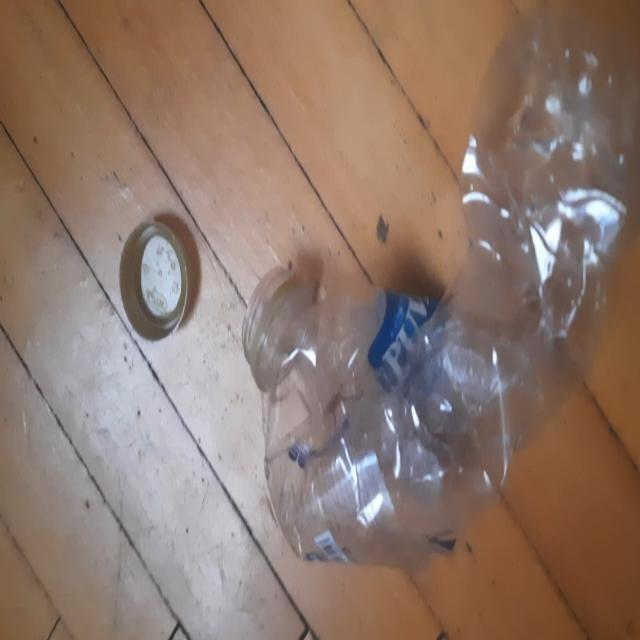Plastic: (243, 3, 638, 565)
